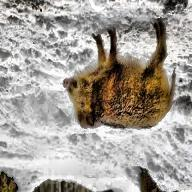boar: (52, 23, 183, 134)
